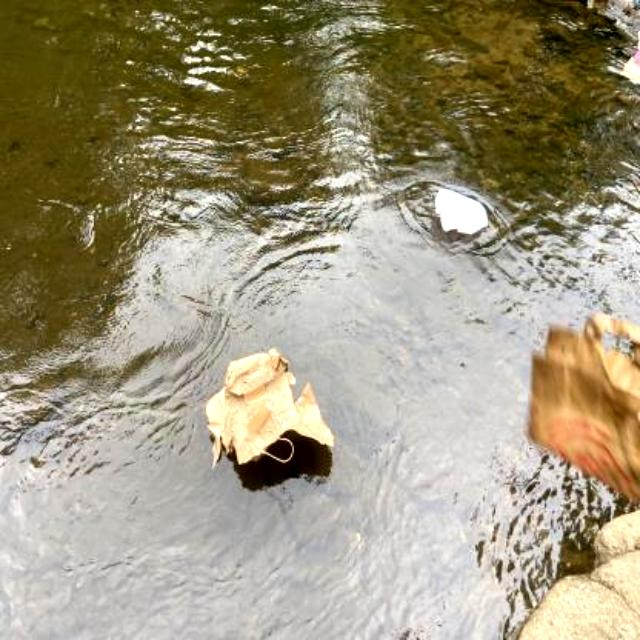Paper: (518, 304, 640, 518), (198, 344, 338, 476)
Plastic: (429, 182, 495, 242)
